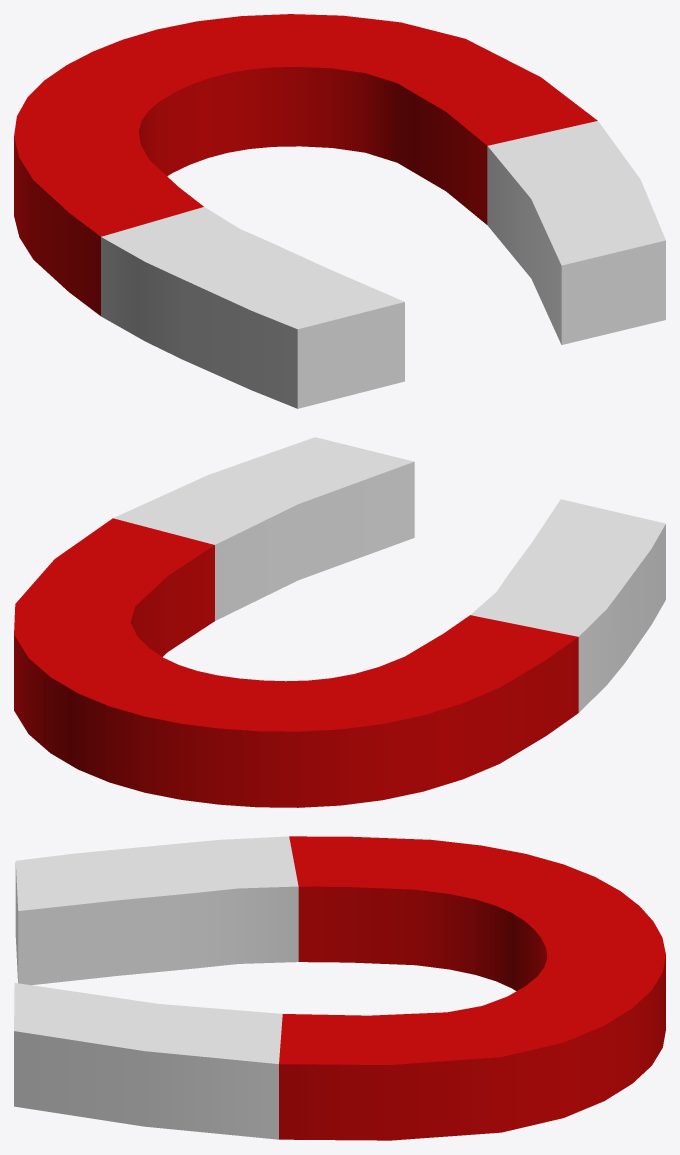
The model's file is Magnet.fbx.
The picture shows the model from 3 angles, top to bottom: view 1: azimuth 30°, elevation 25°; view 2: azimuth 150°, elevation 25°; view 3: azimuth 270°, elevation 25°; orthographic projection. The views are drawn at different scales.
Visible parts, largest first — view 1: curve2; view 2: curve2; view 3: curve2.
Boxes of the visible parts, x1,y1,x2,y2 form: curve2: [14, 14, 665, 408]; curve2: [14, 437, 665, 807]; curve2: [14, 836, 665, 1140].
Bounding box in the file's own units: 0.3357 × 0.0517 × 0.4045.
